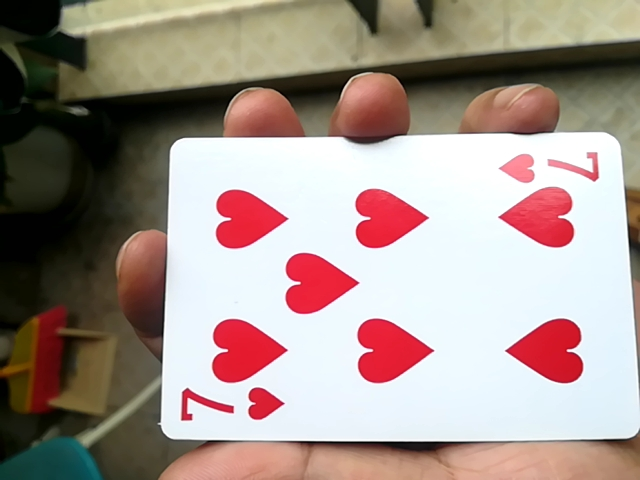hx 7: (140, 130, 630, 450)
